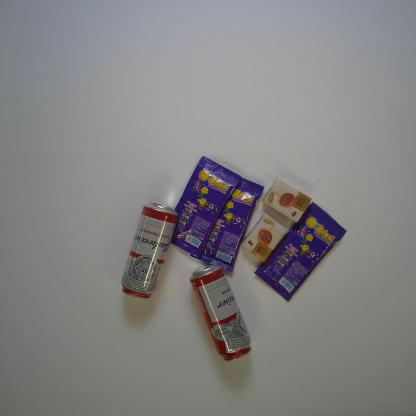Alcohol: (189, 263, 252, 362), (120, 202, 179, 300)
Candy: (254, 202, 347, 302), (166, 156, 242, 260), (189, 174, 265, 273)
Tissue: (241, 213, 289, 263), (262, 178, 312, 223)
